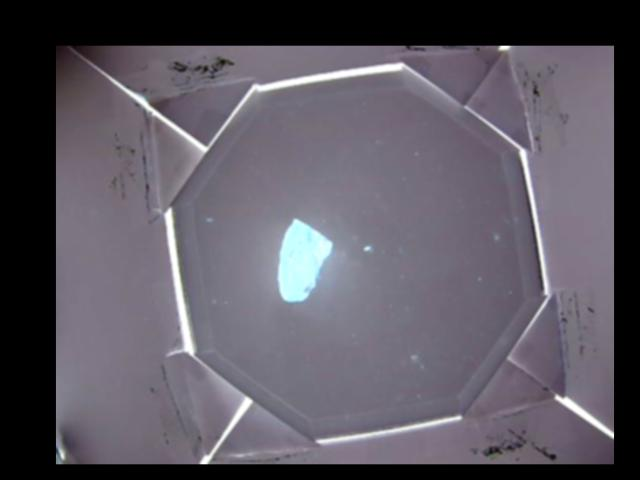Brisk: (277, 218, 332, 302)
